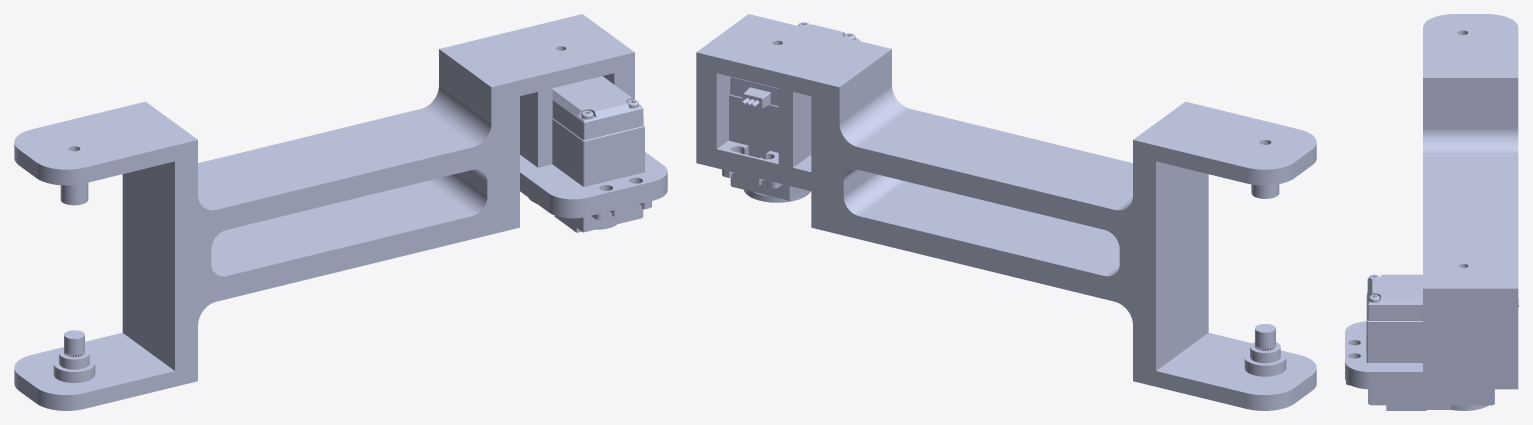
Rendered from robot_arm_link.dae.
3 renders of one model, left to right at view 1: azimuth 30°, elevation 25°; view 2: azimuth 150°, elevation 25°; view 3: azimuth 270°, elevation 25°, orthographic. The views are drawn at different scales.
Parts seen in each view (by area): view 1: robot_arm_link; view 2: robot_arm_link; view 3: robot_arm_link.
Part boxes in pixels (left/top/right/bottom): robot_arm_link: left=14, top=14, right=667, bottom=410; robot_arm_link: left=696, top=14, right=1316, bottom=410; robot_arm_link: left=1345, top=14, right=1518, bottom=410.
Size of the model in its own units: 0.192 by 0.0548 by 0.0762.
